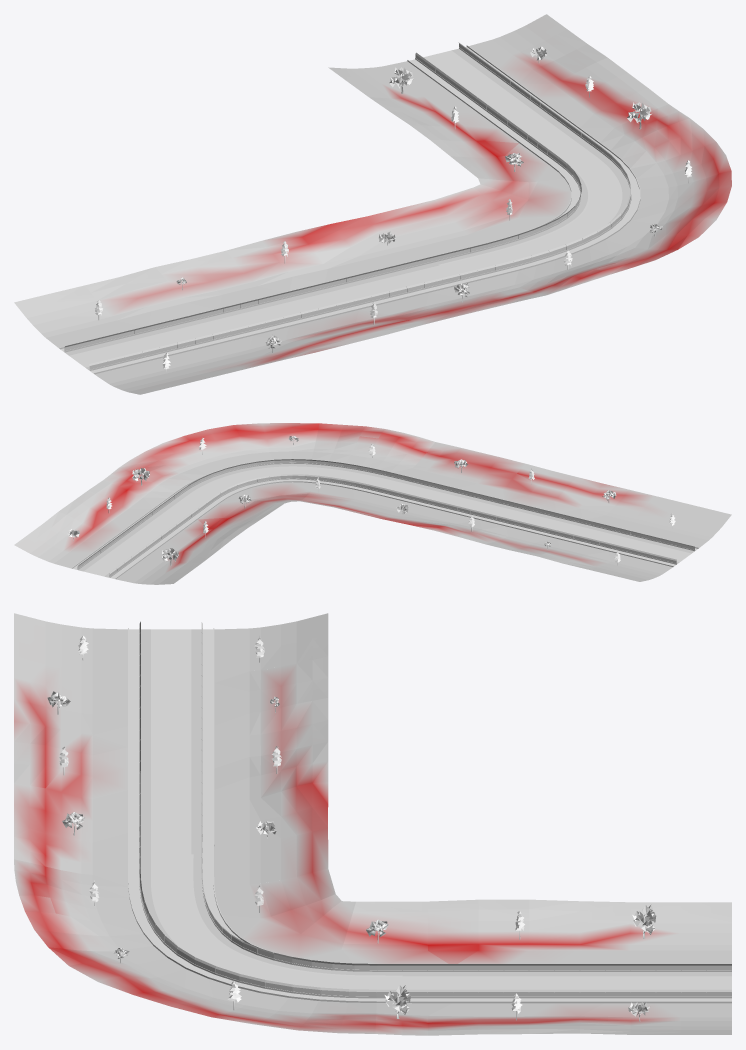
3 views of the same model, one above another, from view 1: azimuth 30°, elevation 25°; view 2: azimuth 150°, elevation 25°; view 3: azimuth 270°, elevation 25° (orthographic). The views are drawn at different scales.
Parts seen in each view (by area): view 1: Grass, Road, Track, Wirefence, Trees; view 2: Grass, Road, Track, Wirefence, Trees; view 3: Grass, Road, Track, Wirefence, Trees.
Boxes of the visible parts, bbox=[...] form: Grass: bbox=[14, 14, 731, 394]; Road: bbox=[69, 50, 621, 367]; Track: bbox=[59, 42, 640, 374]; Wirefence: bbox=[64, 43, 630, 369]; Trees: bbox=[95, 46, 691, 372]; Grass: bbox=[14, 423, 731, 584]; Road: bbox=[84, 466, 691, 576]; Track: bbox=[72, 459, 698, 579]; Wirefence: bbox=[78, 459, 694, 576]; Trees: bbox=[67, 436, 675, 565]; Grass: bbox=[14, 613, 731, 1035]; Road: bbox=[151, 629, 731, 989]; Track: bbox=[128, 628, 731, 1003]; Wirefence: bbox=[139, 621, 731, 996]; Trees: bbox=[47, 635, 656, 1021].
Size of what is drawn, in the model's own units: 44500 by 2027 by 32007.
